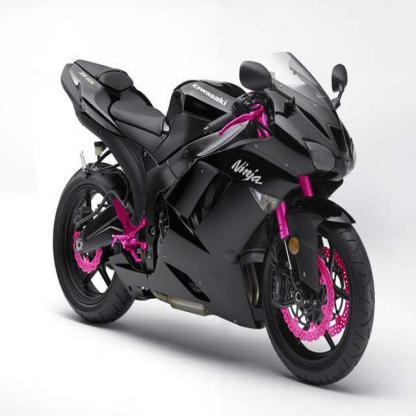Motorcycle: (46, 32, 378, 387)
